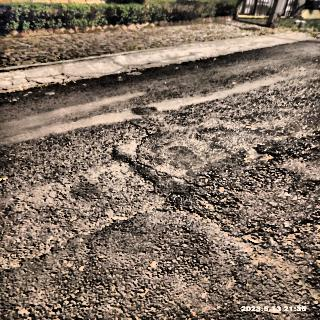alligator-crack: (167, 149, 283, 230), (0, 67, 71, 96)
pothole: (122, 120, 177, 178)
